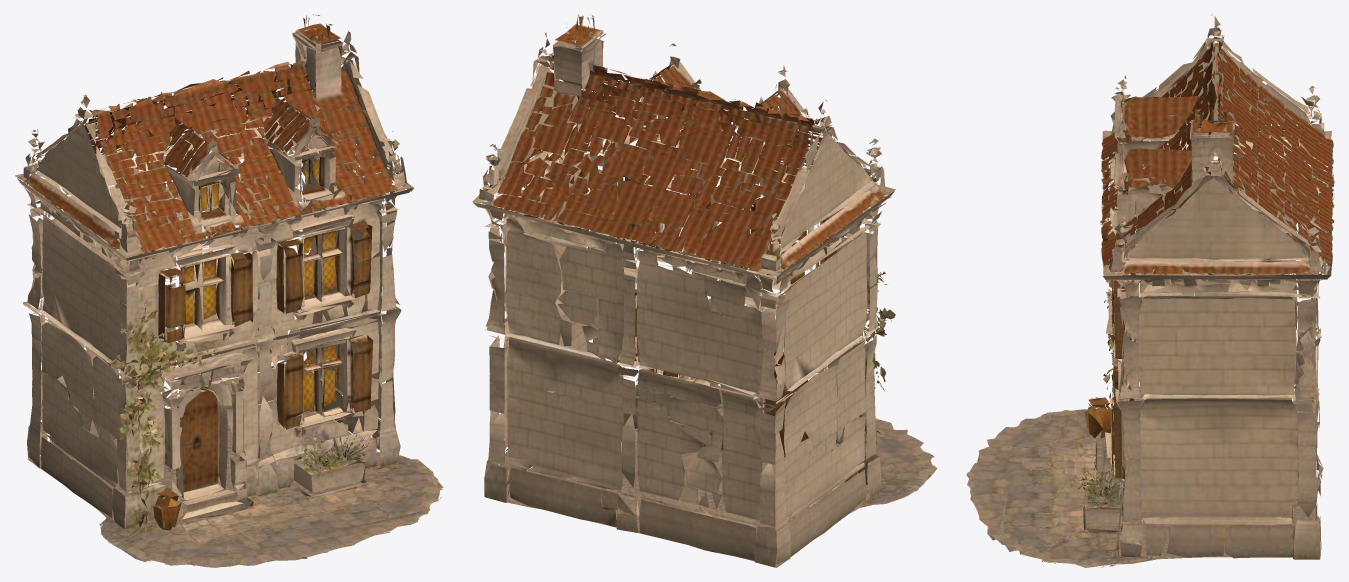
Rendered from maison2_loin.glb.
3 renders of one model, left to right at view 1: azimuth 30°, elevation 25°; view 2: azimuth 150°, elevation 25°; view 3: azimuth 270°, elevation 25°, orthographic. The views are drawn at different scales.
Parts seen in each view (by area): view 1: maison2_loin; view 2: maison2_loin; view 3: maison2_loin.
Boxes of the visible parts, bbox=[...] form: maison2_loin: bbox=[15, 14, 443, 567]; maison2_loin: bbox=[472, 14, 937, 567]; maison2_loin: bbox=[966, 14, 1334, 567].
Bounding box in the file's own units: 8.39 × 10.78 × 8.26.
1 material, 1 textured.
